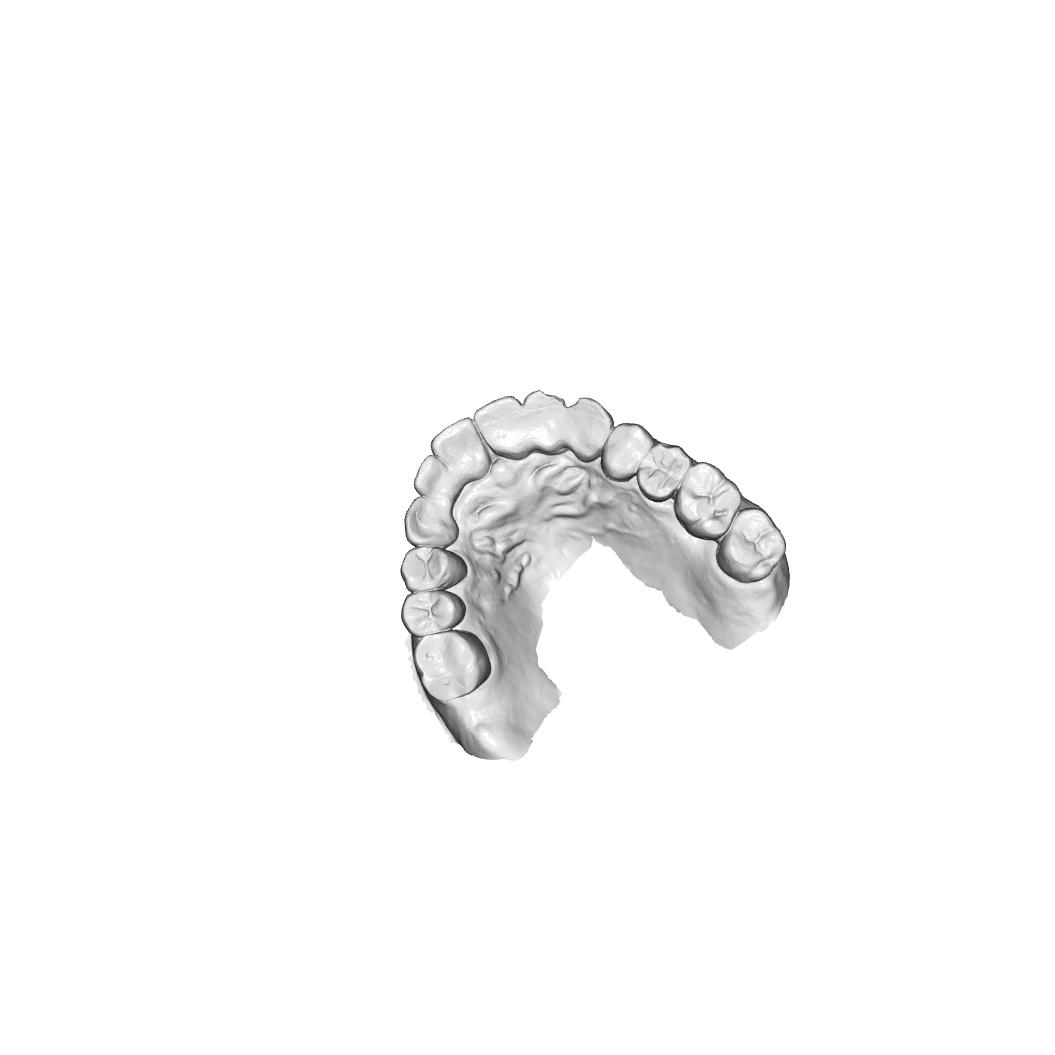canine: (565, 396, 615, 463), (403, 496, 460, 550)
incisor: (430, 416, 492, 480), (473, 395, 531, 462), (523, 389, 567, 457), (412, 455, 461, 502)
molar: (412, 629, 492, 702), (715, 507, 787, 585), (673, 461, 742, 541)
premolar: (636, 442, 693, 503), (599, 422, 656, 482), (399, 546, 468, 593), (400, 589, 467, 637)
